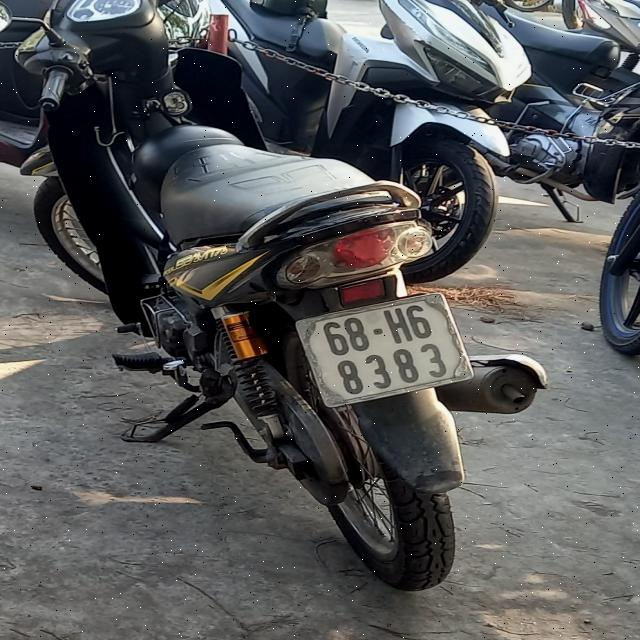3: (365, 352, 394, 394), (421, 341, 445, 378)
6: (407, 304, 432, 341), (325, 318, 349, 356)
8: (336, 357, 368, 396), (342, 312, 368, 352), (393, 346, 416, 385)
H: (382, 306, 413, 346)
